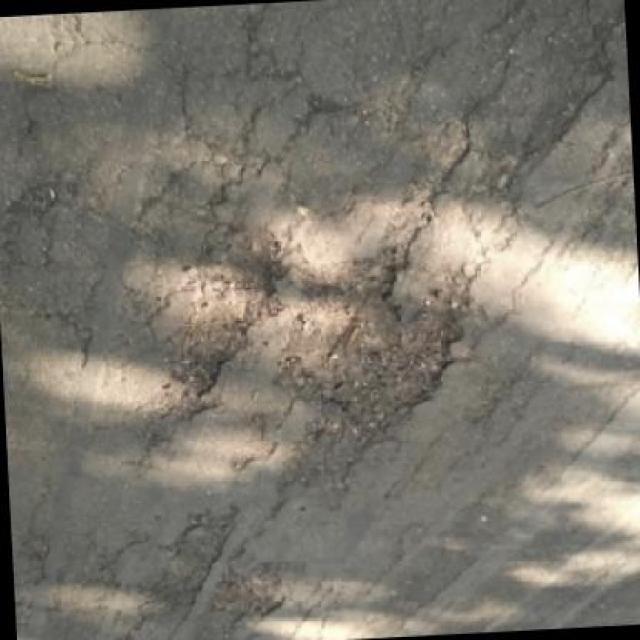pothole1: (278, 243, 490, 439), (159, 225, 296, 403), (211, 559, 287, 632)
